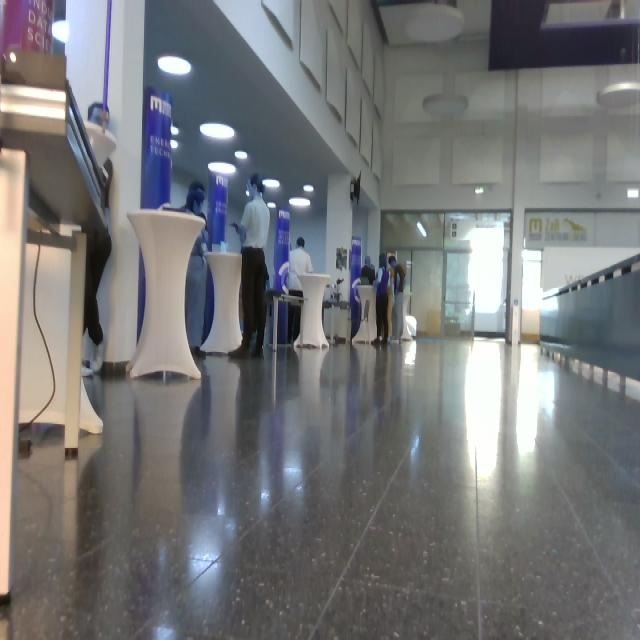door: (444, 212, 511, 338)
light bulb: (404, 2, 466, 44), (597, 81, 640, 109), (423, 93, 469, 117), (158, 54, 192, 76), (200, 122, 235, 140), (52, 20, 69, 44), (208, 163, 236, 175), (289, 197, 311, 208), (262, 178, 280, 188), (417, 221, 427, 237), (235, 150, 248, 160), (303, 184, 314, 192), (171, 125, 179, 134), (171, 140, 179, 149), (268, 202, 276, 209)
person: (228, 173, 271, 360), (288, 237, 314, 344), (371, 253, 390, 345), (388, 256, 407, 344)
tiled floor: (5, 335, 639, 639)
